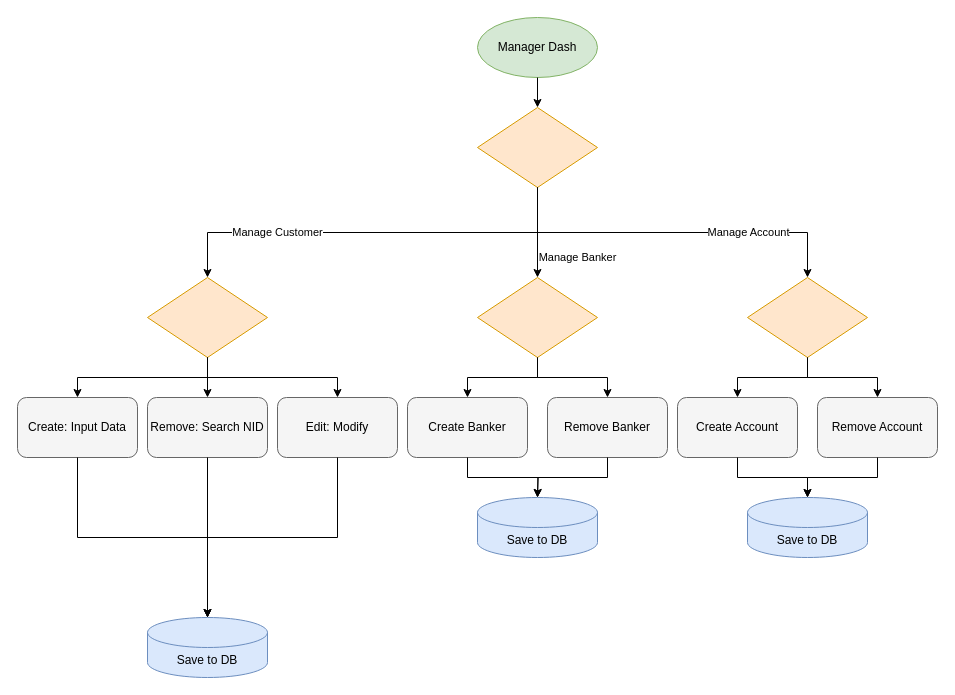
Some shapes in this 955 by 695 pixel diagram are drawn without their labels. Here are the shapes that lost their labels. From the top down, the centre of each, then its label:
the point at 537,147: Select Operation
the point at 207,317: Cust Action?
the point at 537,317: Banker Action?
the point at 807,317: Account Action?
